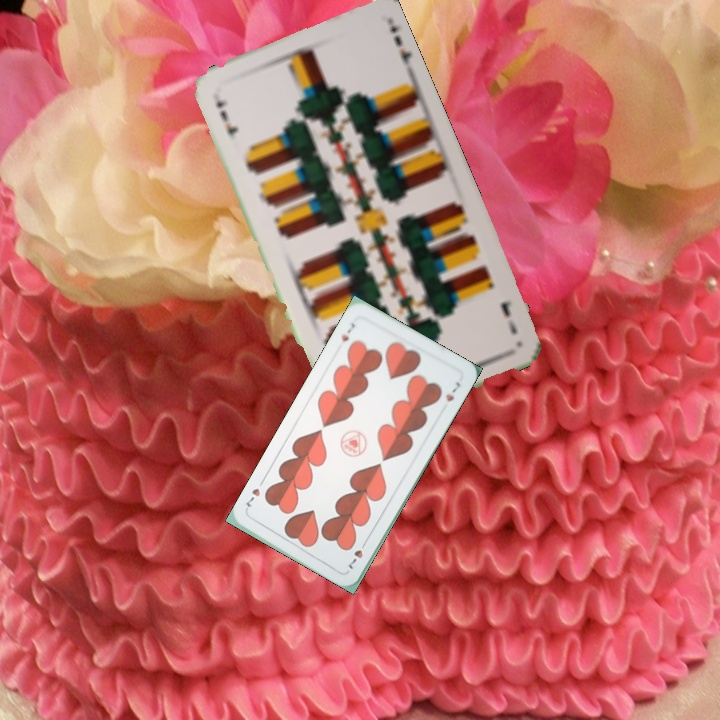E7: (212, 96, 241, 143), (496, 297, 519, 337)
H7: (344, 536, 370, 572), (336, 318, 358, 344)
